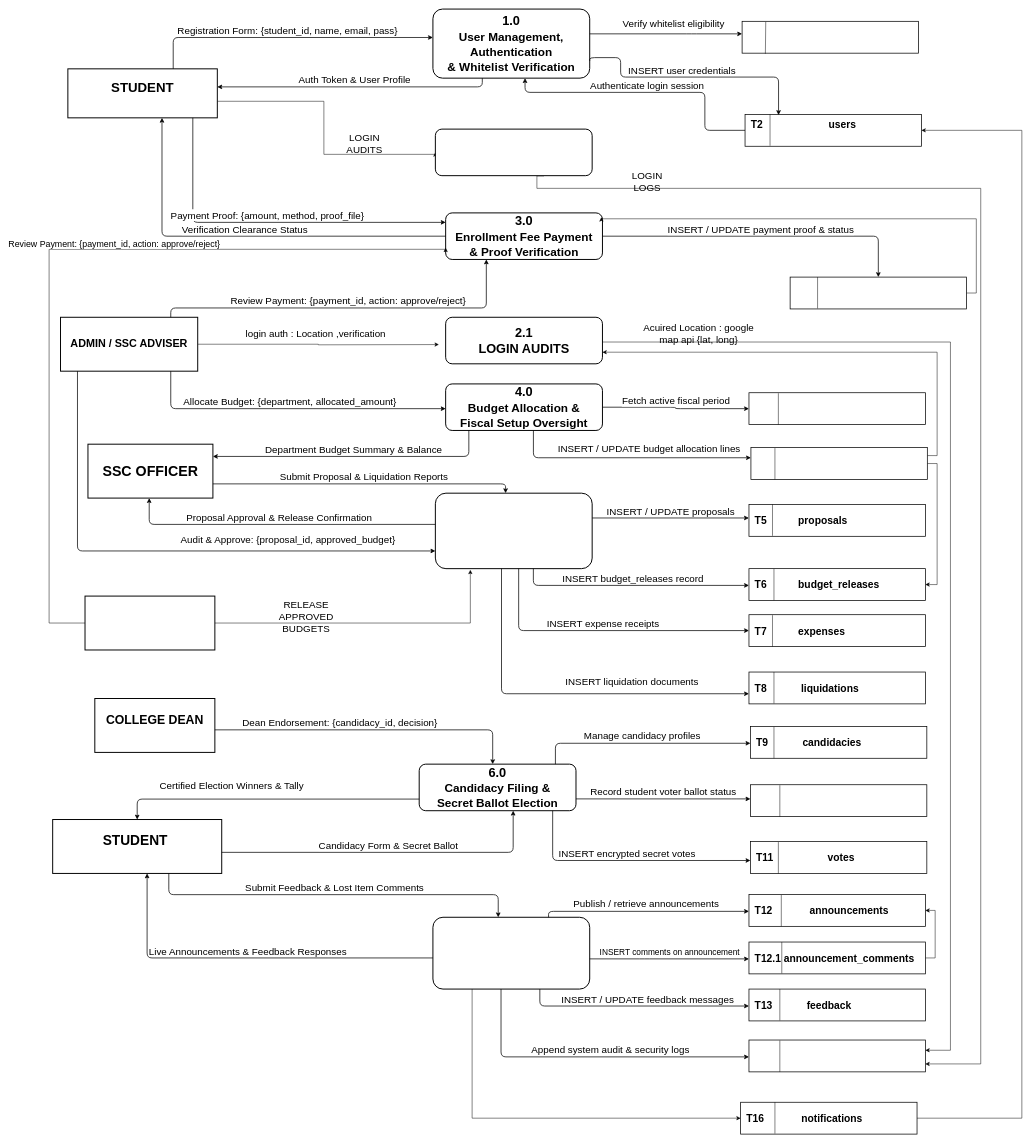
The diagram is 1034 pixels wide and 1145 high, and some of its shapes have lost their labels. Each missing label, with the centre of its shape:
"2.0 LOGIN AUDITS" belongs at (513,152).
"5.0 Project Proposals, Releases, Expenses & Liquidation" belongs at (513,530).
"7.0 Announcements, Community Feedback & Audit Logs" belongs at (511,953).
"SSC TREASURER" belongs at (149,622).
"T1 eligible_students" belongs at (830,37).
"T10 student_ballots" belongs at (838,800).
"T14 activity_logs" belongs at (837,1055).
"T15 school_years" belongs at (837,408).
"T3 Contribution_fee" belongs at (878,293).
"T4 budgets" belongs at (838,463).
